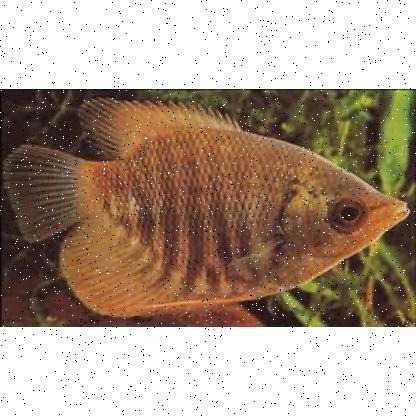gurame: (4, 98, 416, 312)
